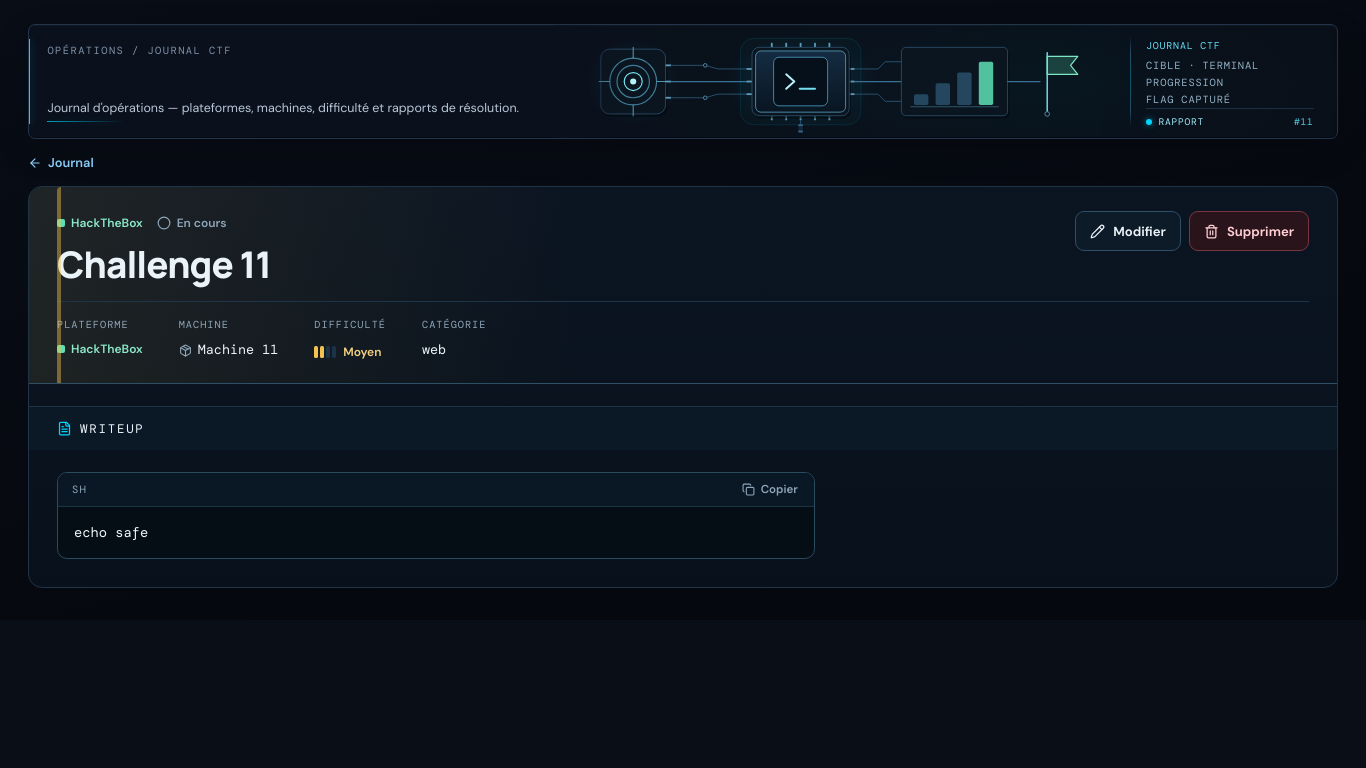
Test: CTF 2026 — fiche › copie un bloc de code uniquement à la demande
Expected: the heading "Challenge 11" is shown, top-left (57, 239), bottom-right (271, 289)
Click the button with aria-label "Copier le bloc": (770, 490) top-left (732, 476), bottom-right (808, 504)
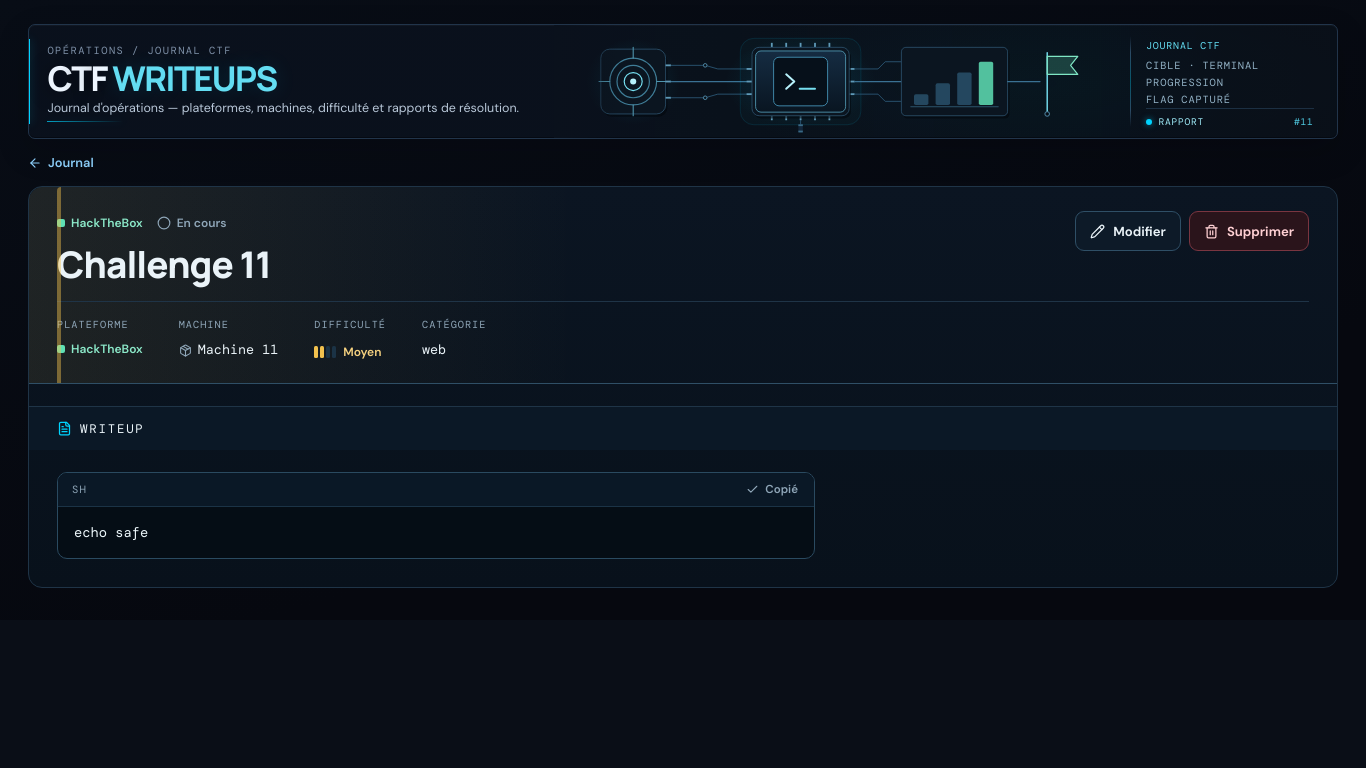
Now the button "Copié" is shown, box top-left (736, 476), bottom-right (808, 504)
